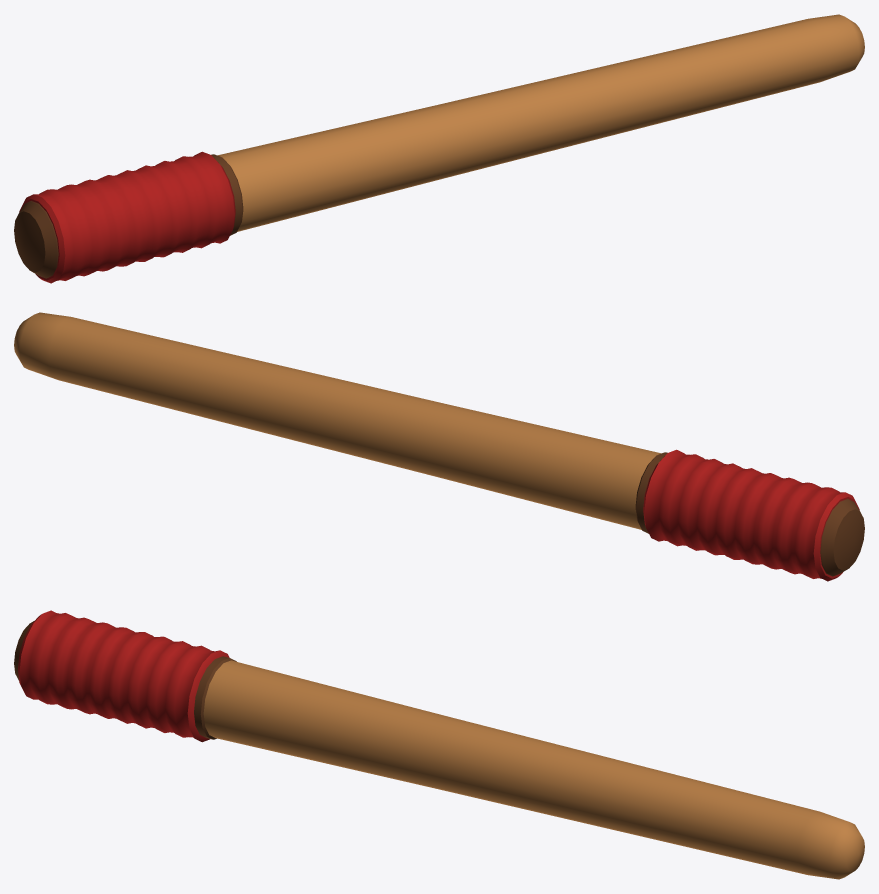
File: danda-classic.glb
3 views of the same model, one above another, from view 1: azimuth 30°, elevation 25°; view 2: azimuth 150°, elevation 25°; view 3: azimuth 330°, elevation 25° (orthographic).
Visible parts, largest first — view 1: DandaClassic_Shaft, DandaClassic_Grip, DandaClassic_Butt; view 2: DandaClassic_Shaft, DandaClassic_Grip, DandaClassic_Butt; view 3: DandaClassic_Shaft, DandaClassic_Grip, DandaClassic_Butt.
Boxes of the visible parts, x1=… form: DandaClassic_Shaft: x1=217, y1=14, x2=864, y2=231; DandaClassic_Grip: x1=19, y1=151, x2=235, y2=283; DandaClassic_Butt: x1=14, y1=154, x2=243, y2=278; DandaClassic_Shaft: x1=14, y1=312, x2=661, y2=529; DandaClassic_Grip: x1=643, y1=449, x2=859, y2=581; DandaClassic_Butt: x1=635, y1=452, x2=864, y2=576; DandaClassic_Shaft: x1=203, y1=660, x2=864, y2=879; DandaClassic_Grip: x1=18, y1=610, x2=229, y2=742; DandaClassic_Butt: x1=14, y1=621, x2=236, y2=739.
Size of the model in its own units: 4.6 by 0.4499 by 0.4499.
